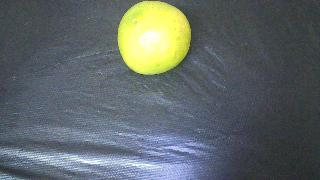LOCAL: (118, 1, 191, 75)
